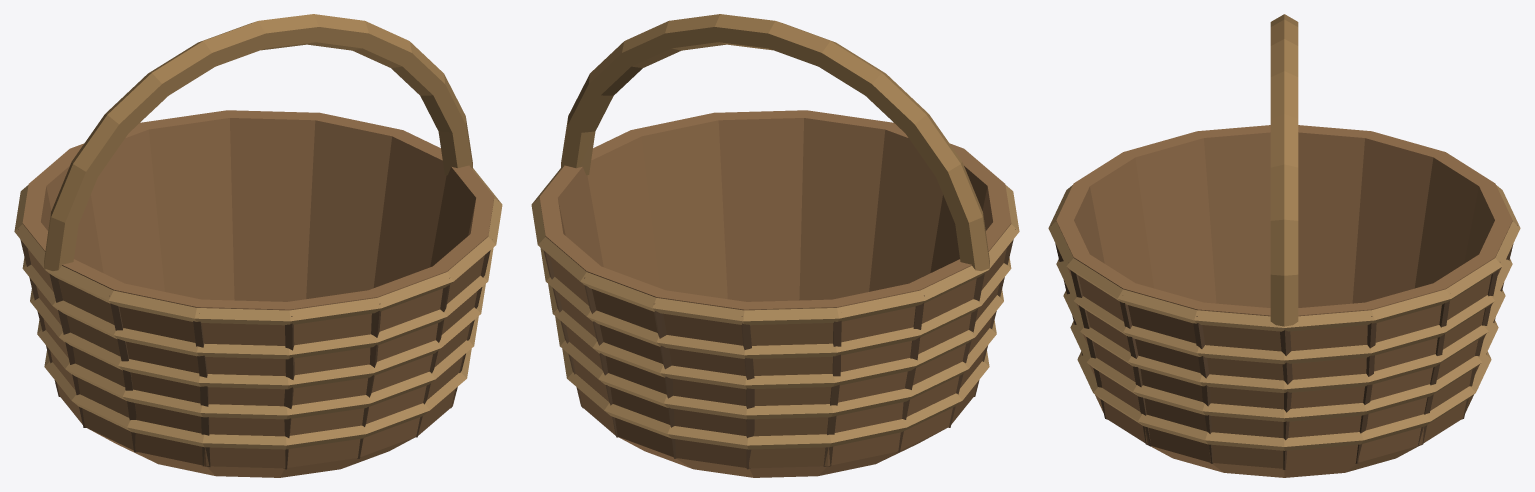
The model's file is product_basket.glb.
The picture shows the model from 3 angles, left to right: view 1: azimuth 30°, elevation 25°; view 2: azimuth 150°, elevation 25°; view 3: azimuth 270°, elevation 25°; orthographic projection. The views are drawn at different scales.
Parts seen in each view (by area): view 1: geometry; view 2: geometry; view 3: geometry.
Boxes of the visible parts, left/top/right/bottom form: geometry: left=14, top=14, right=502, bottom=477; geometry: left=531, top=14, right=1019, bottom=477; geometry: left=1048, top=14, right=1520, bottom=477.
Size of the model in its own units: 0.5416 by 0.468 by 0.538.
